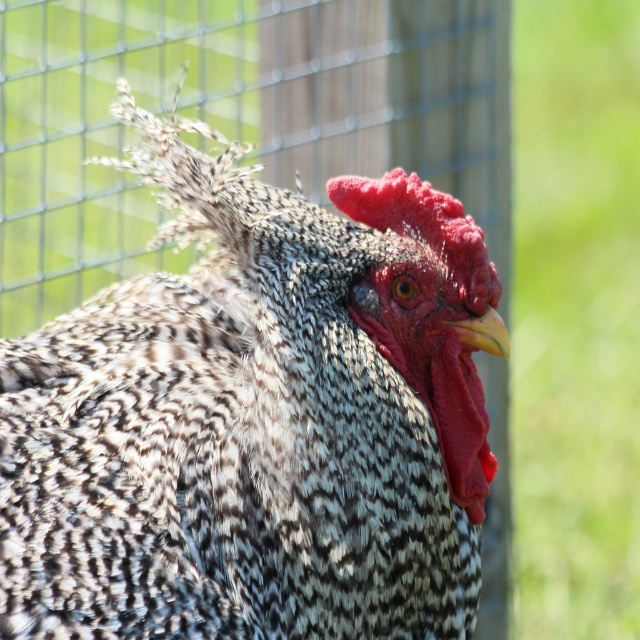Chicken: (0, 59, 511, 640)
